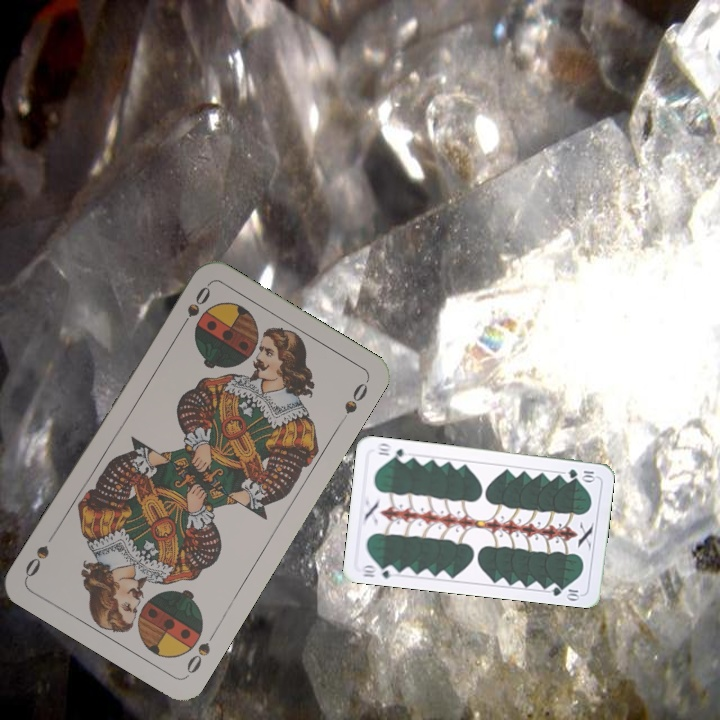G10: (357, 561, 398, 581), (564, 465, 597, 483)
SO: (182, 625, 220, 679), (175, 282, 213, 334)
